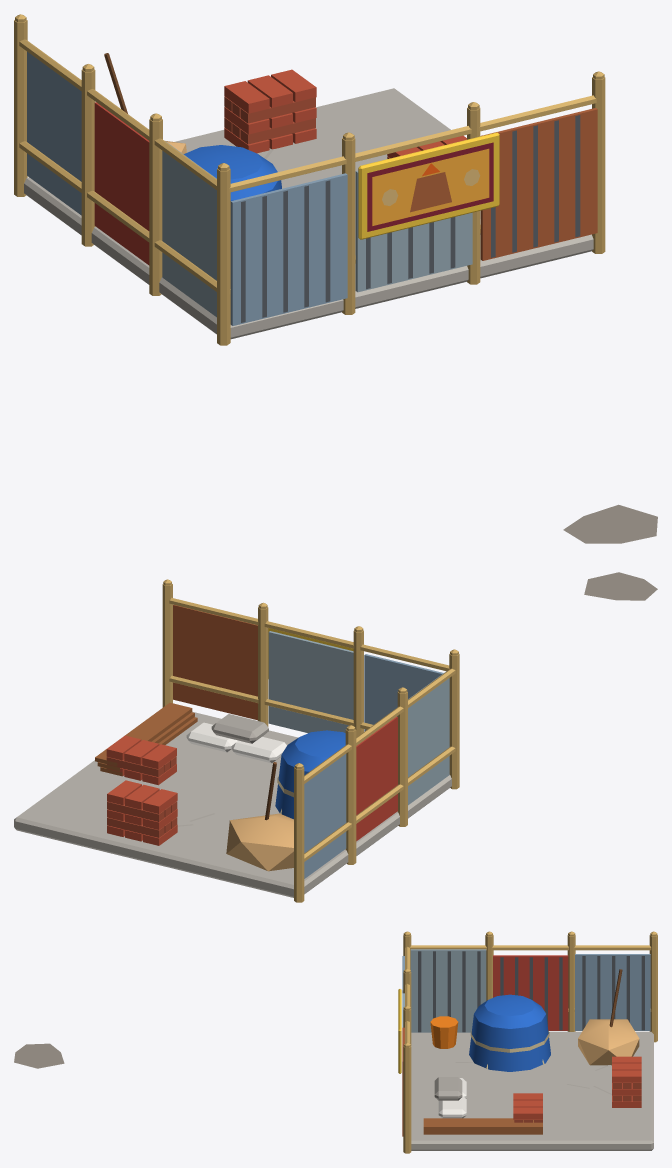
Rendered from tandoor_lock.glb.
The picture shows the model from 3 angles, top to bottom: view 1: azimuth 30°, elevation 25°; view 2: azimuth 150°, elevation 25°; view 3: azimuth 270°, elevation 25°; orthographic projection. The views are drawn at different scales.
Parts seen in each view (by area): view 1: tandoor_lock; view 2: tandoor_lock; view 3: tandoor_lock.
Part boxes in pixels (bbox=[...]): tandoor_lock: bbox=[14, 14, 657, 543]; tandoor_lock: bbox=[14, 572, 657, 902]; tandoor_lock: bbox=[14, 931, 657, 1153].
Size of the model in its own units: 3.29 by 1.48 by 7.84.
1 material, 1 textured.
